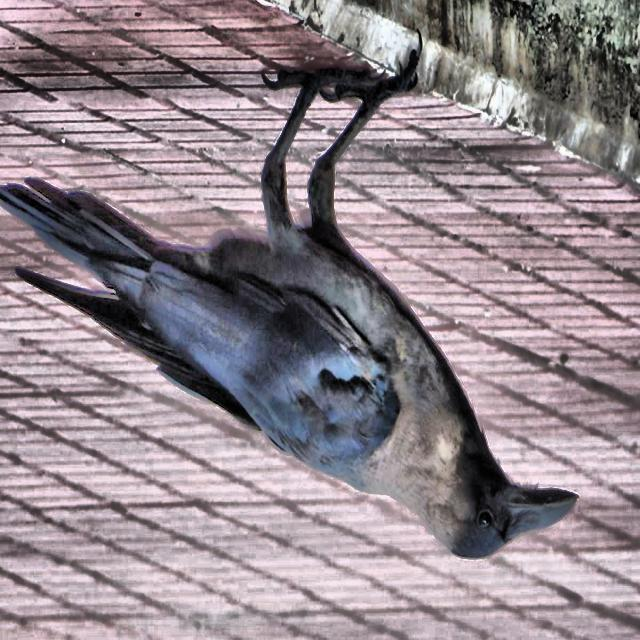crow: (1, 32, 588, 581)
